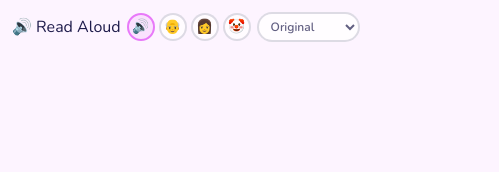
ReadAloud › caches a translation instead of re-fetching when picked again
This screenshot has width=499, height=172.
Step 1. Select "German" in the dropdown named "Translate to" → coordinates (308, 27), box 257,12 -> 360,42
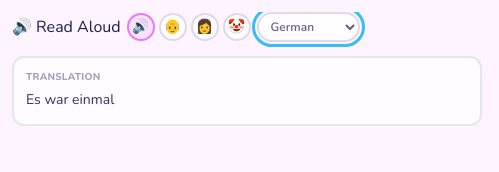
Expected: the text "Es war einmal" is shown, 26,90 -> 114,109
Step 2. Select "Original" in the dropdown named "Translate to" → coordinates (308, 27), box 257,12 -> 360,42
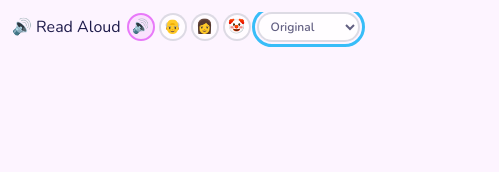
Step 3. Select "German" in the dropdown named "Translate to" → coordinates (308, 27), box 257,12 -> 360,42
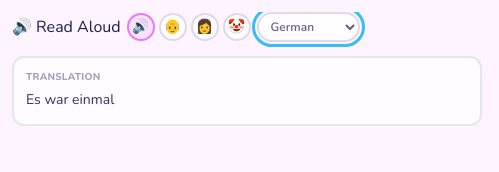
Expected: the text "Es war einmal" is shown, 26,90 -> 114,109
